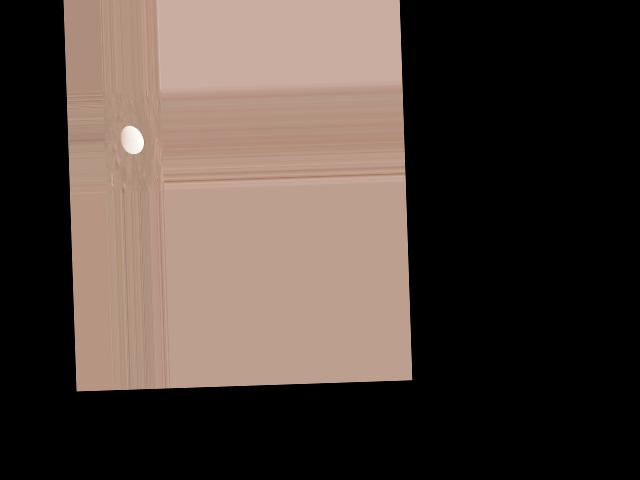egg: (120, 124, 143, 154)
